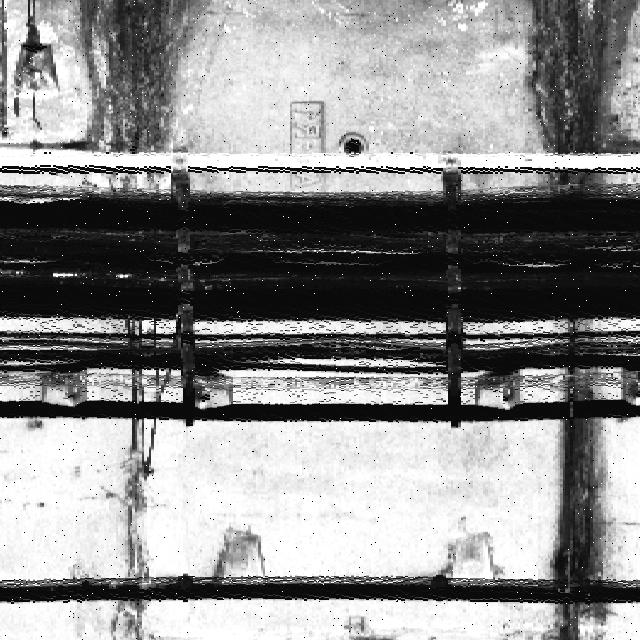leakage: (63, 0, 212, 195), (541, 317, 618, 639), (517, 0, 640, 188), (105, 405, 157, 639)
